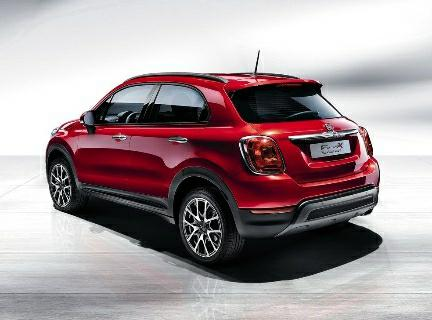car: (27, 58, 388, 271)
